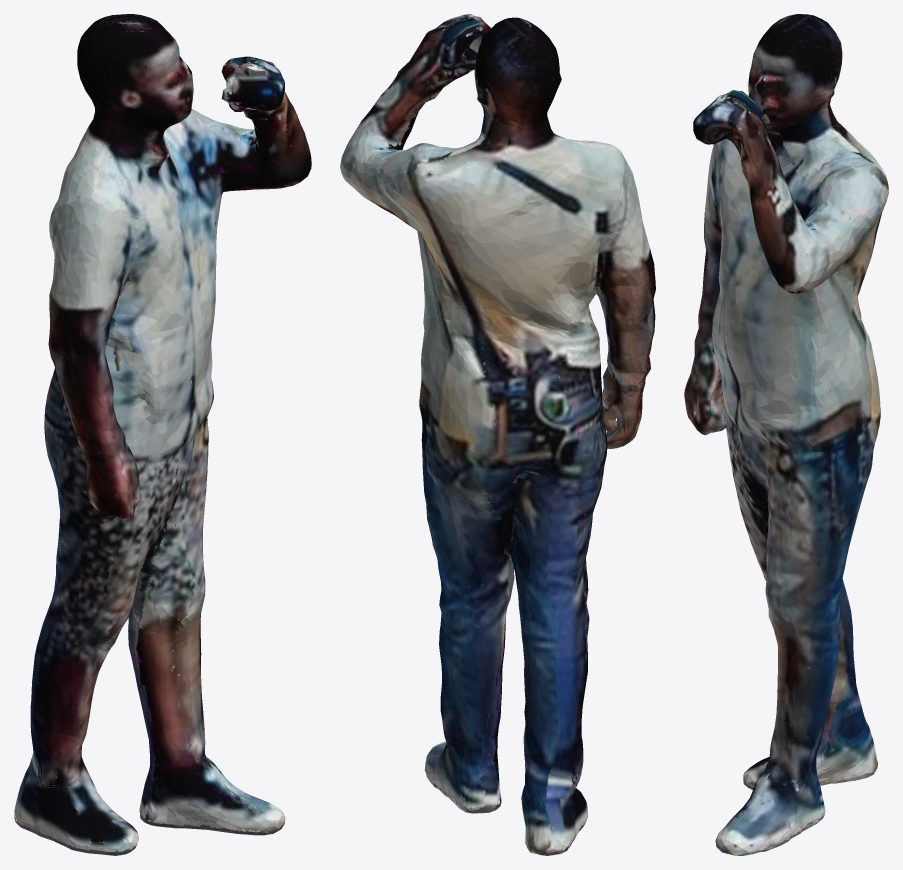
File: man_camera_m0.glb
The picture shows the model from 3 angles, left to right: view 1: azimuth 30°, elevation 25°; view 2: azimuth 150°, elevation 25°; view 3: azimuth 270°, elevation 25°; orthographic projection. The views are drawn at different scales.
Parts seen in each view (by area): view 1: mesh; view 2: mesh; view 3: mesh.
Part boxes in pixels (x1=…): mesh: x1=14, y1=14, x2=311, y2=855; mesh: x1=340, y1=14, x2=655, y2=855; mesh: x1=684, y1=14, x2=888, y2=855.
Size of the model in its own units: 0.4068 by 1.1 by 0.2602.
1 material, 1 textured.
